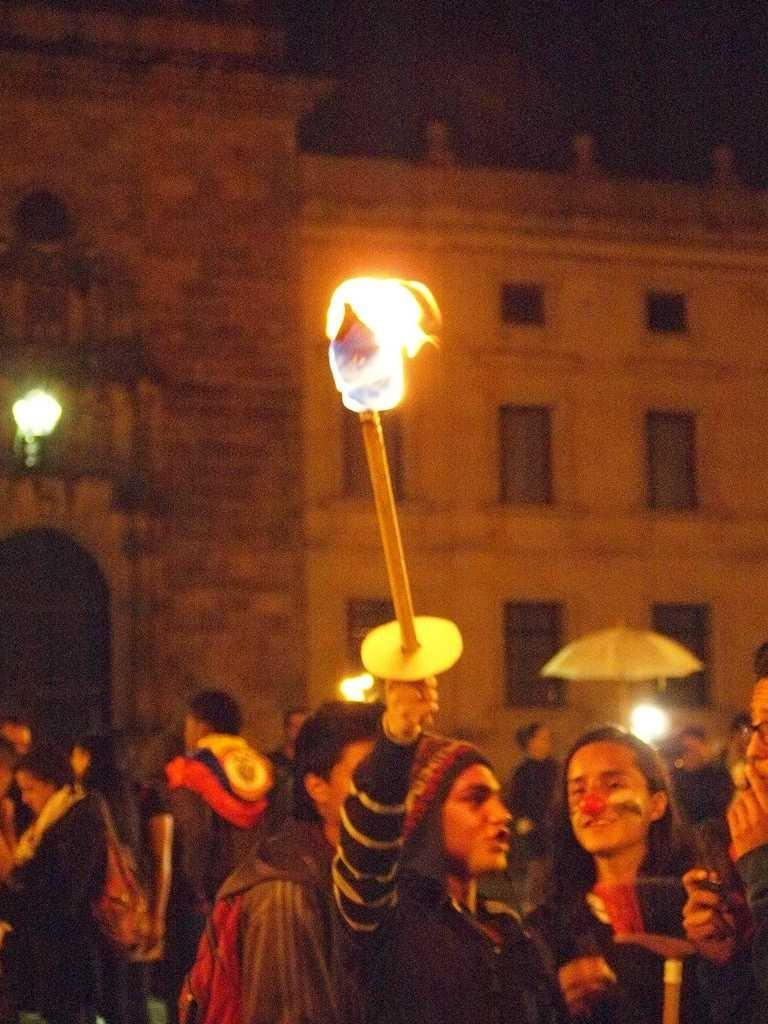fire: (360, 273, 417, 413)
